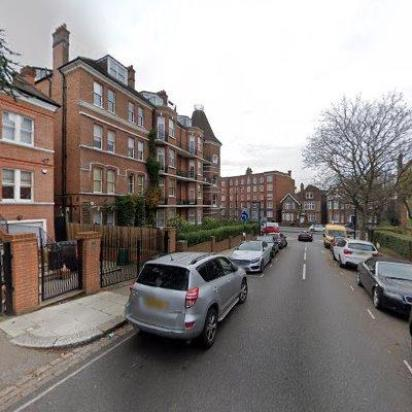moving-car: (296, 229, 314, 242)
stationary-car-onstreet: (122, 250, 248, 348), (358, 256, 412, 318), (229, 240, 273, 272), (333, 237, 378, 268), (256, 235, 280, 256), (266, 232, 288, 248), (309, 224, 325, 232)
stationary-light-truck-onstreet: (323, 224, 347, 246)
